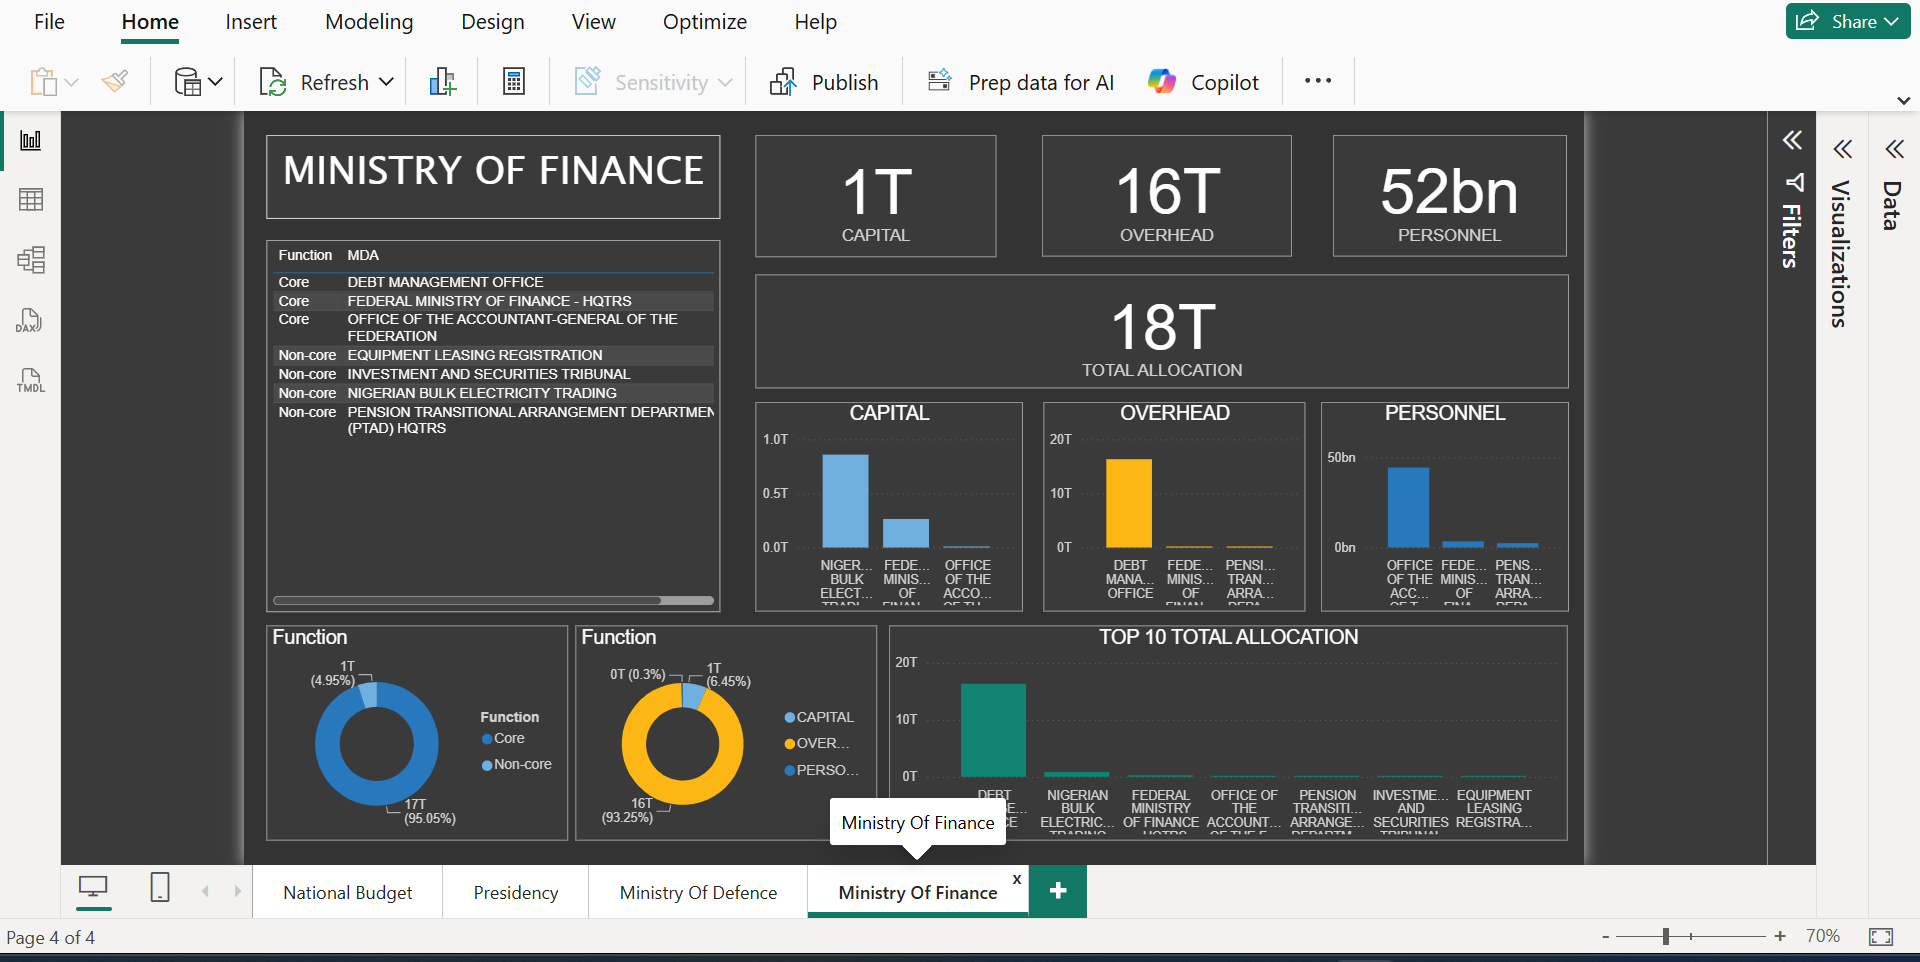

What the dashboard file says about the page in this screenshot:
{"tool":"powerbi","page":{"name":"Ministry Of Finance","canvas":[1280,720],"ordinal":3},"visuals":[{"type":"card","fields":{"Values":["Sum(Copy of National Budget_ Core functions vs Non-Core functions - Ministry Of Fina.CAPITAL)"]},"box":[488.3,23.3,230,116.7],"z":0},{"type":"tableEx","fields":{"Values":["Copy of National Budget_ Core functions vs Non-Core functions - Ministry Of Fina.Function","Copy of National Budget_ Core functions vs Non-Core functions - Ministry Of Fina.MDA"]},"box":[21.7,123.3,433.3,355],"z":1000},{"type":"card","fields":{"Values":["Sum(Copy of National Budget_ Core functions vs Non-Core functions - Ministry Of Fina.OVERHEAD)"]},"box":[762.6,23.5,238.5,115.9],"z":2000},{"type":"card","fields":{"Values":["Sum(Copy of National Budget_ Core functions vs Non-Core functions - Ministry Of Fina.PERSONNEL)"]},"box":[1039.8,23.5,223.4,115.9],"z":3000},{"type":"card","fields":{"Values":["Sum(Copy of National Budget_ Core functions vs Non-Core functions - Ministry Of Fina.TOTAL ALLOCATION)"]},"box":[488.3,156.7,776.7,108.3],"z":4000},{"type":"donutChart","title":"Function","fields":{"Y":["Sum(Copy of National Budget_ Core functions vs Non-Core functions - Ministry Of Fina.TOTAL ALLOCATION)"],"Category":["Copy of National Budget_ Core functions vs Non-Core functions - Ministry Of Fina.Function"]},"box":[21.3,491.8,287.7,205.5],"z":5000},{"type":"columnChart","title":"TOP 10 TOTAL ALLOCATION","fields":{"Category":["Copy of National Budget_ Core functions vs Non-Core functions - Ministry Of Fina.MDA"],"Y":["Sum(Copy of National Budget_ Core functions vs Non-Core functions - Ministry Of Fina.TOTAL ALLOCATION)"]},"box":[616.5,491.8,647.7,205.5],"z":6000},{"type":"clusteredColumnChart","title":"OVERHEAD","fields":{"Y":["Sum(Copy of National Budget_ Core functions vs Non-Core functions - Ministry Of Fina.OVERHEAD)"],"Category":["Ministry Of Finance.MDA"]},"box":[763.3,278.3,250,200],"z":7000},{"type":"clusteredColumnChart","title":"CAPITAL","fields":{"Y":["Sum(Copy of National Budget_ Core functions vs Non-Core functions - Ministry Of Fina.CAPITAL)"],"Category":["Ministry Of Finance.MDA"]},"box":[488.3,278.3,255,200],"z":8000},{"type":"clusteredColumnChart","title":"PERSONNEL","fields":{"Y":["Sum(Ministry Of Finance.PERSONNEL)"],"Category":["Ministry Of Finance.MDA"]},"box":[1028.3,278.3,236.7,200],"z":9000},{"type":"textbox","box":[21.7,23.3,433.3,80],"z":10000},{"type":"donutChart","title":"Function","fields":{"Y":["Sum(Ministry Of Finance.CAPITAL)","Sum(Ministry Of Finance.OVERHEAD)","Sum(Ministry Of Finance.PERSONNEL)"]},"box":[316.1,491.8,287.7,205.5],"z":10001}]}

Visuals, with their boxes on the page's 1280x720 design canvas (x1, y1, x2, y2). These are canvas units, not pixel positions in the 1920x962 screenshot, which may show the page scaled, cropped or inside an application window:
card - Sum(Copy of National Budget_ Core functions vs Non-Core functions - Ministry Of Fina.CAPITAL): <region>488, 23, 718, 140</region>
tableEx - Copy of National Budget_ Core functions vs Non-Core functions - Ministry Of Fina.Function x Copy of National Budget_ Core functions vs Non-Core functions - Ministry Of Fina.MDA: <region>22, 123, 455, 478</region>
card - Sum(Copy of National Budget_ Core functions vs Non-Core functions - Ministry Of Fina.OVERHEAD): <region>763, 24, 1001, 139</region>
card - Sum(Copy of National Budget_ Core functions vs Non-Core functions - Ministry Of Fina.PERSONNEL): <region>1040, 24, 1263, 139</region>
card - Sum(Copy of National Budget_ Core functions vs Non-Core functions - Ministry Of Fina.TOTAL ALLOCATION): <region>488, 157, 1265, 265</region>
"Function" donutChart: <region>21, 492, 309, 697</region>
"TOP 10 TOTAL ALLOCATION" columnChart: <region>616, 492, 1264, 697</region>
"OVERHEAD" clusteredColumnChart: <region>763, 278, 1013, 478</region>
"CAPITAL" clusteredColumnChart: <region>488, 278, 743, 478</region>
"PERSONNEL" clusteredColumnChart: <region>1028, 278, 1265, 478</region>
textbox: <region>22, 23, 455, 103</region>
"Function" donutChart: <region>316, 492, 604, 697</region>
